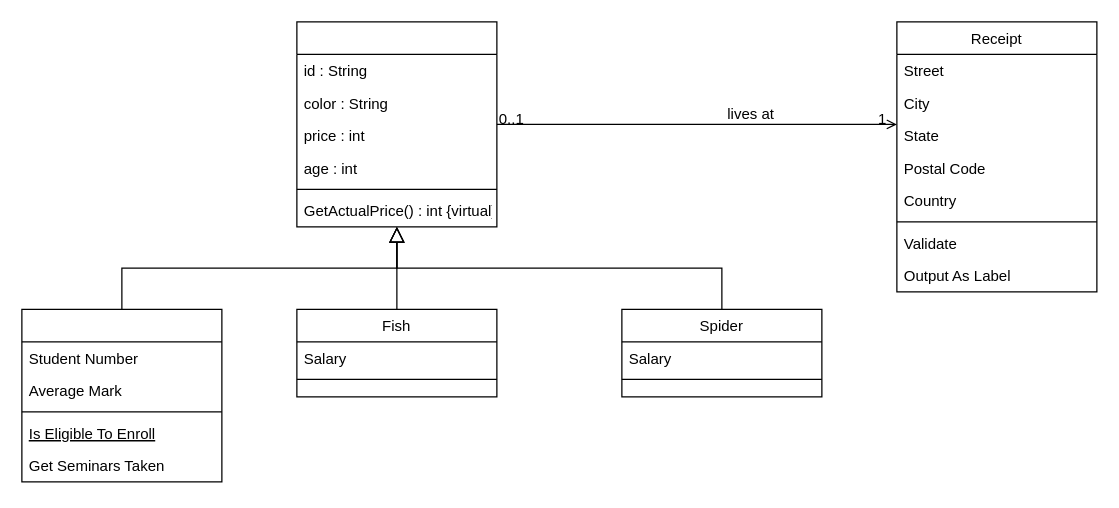
Some shapes in this 1119 by 508 pixel diagram are drawn without their labels. The shapes that lost their labels are listed below. From the top down, each one's box as (x1, y1, x2, y2) in pixels, then its label:
(296, 21, 497, 227): Animal
(21, 308, 222, 482): Hamster
